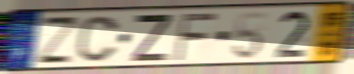2: (275, 9, 310, 60)
5: (232, 10, 270, 60)
C: (75, 15, 121, 64)
F: (172, 11, 220, 62)
Z: (34, 15, 82, 65), (131, 13, 174, 63)
